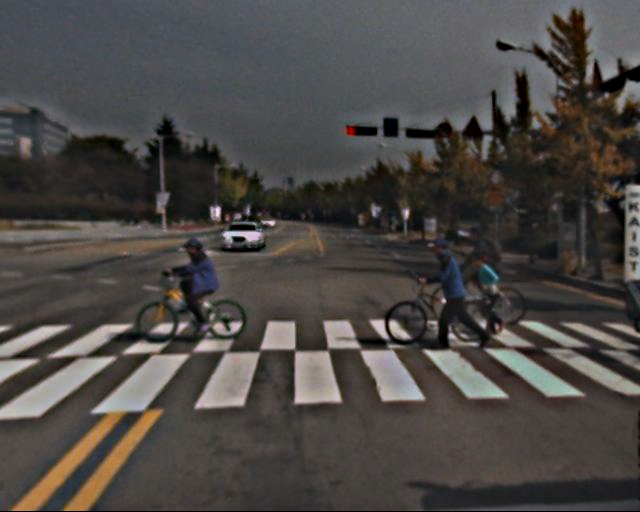person: (427, 243, 479, 352), (463, 226, 512, 331), (180, 240, 225, 335), (472, 250, 512, 333)
